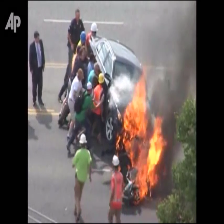fire_h: (122, 67, 167, 200)
fire_l: (115, 136, 121, 149), (117, 165, 121, 172), (127, 164, 130, 169)
